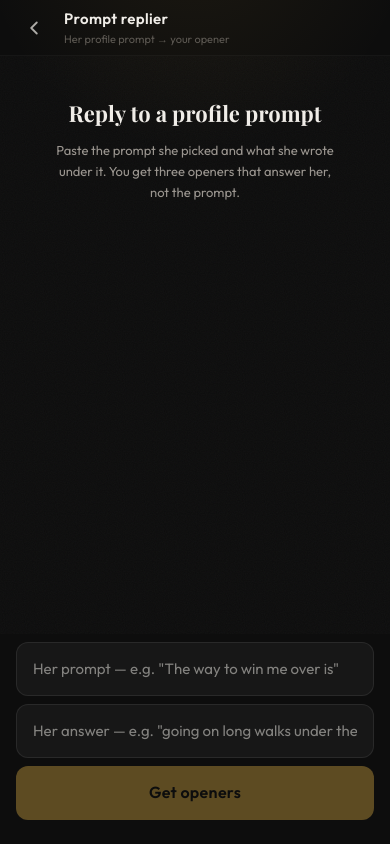
Test: PromptReplierScreen › selecting an opener only highlights it — Copy is the explicit action
Type "The way to win me over is" into the field labelled "Her prompt".
click(195, 669); type("The way to win me over is")  # box [16,642,374,696]
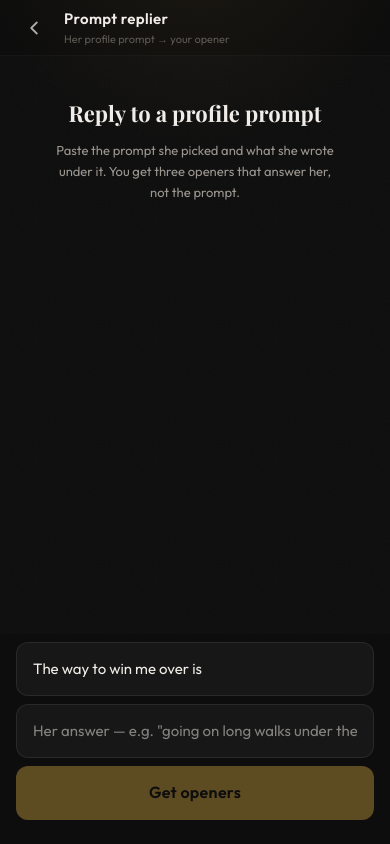
Replace the text in the field labelled "Her answer" with "going on long walks under the Bougainville trees" at point(195, 731), box [16,704,374,758]
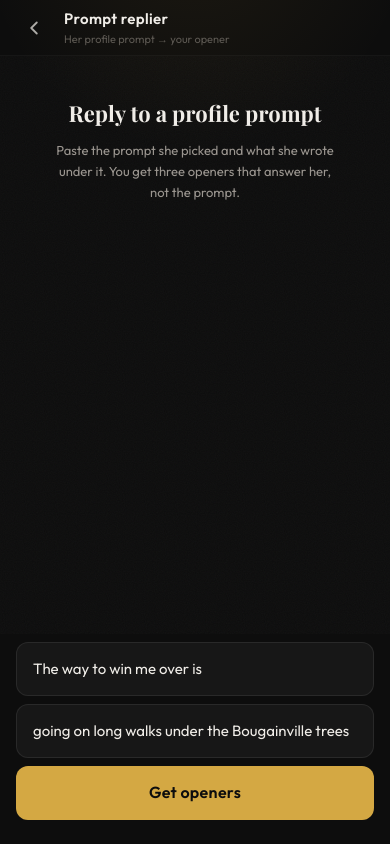
Click the button "Get openers".
click(195, 793)  # box [16,766,374,820]
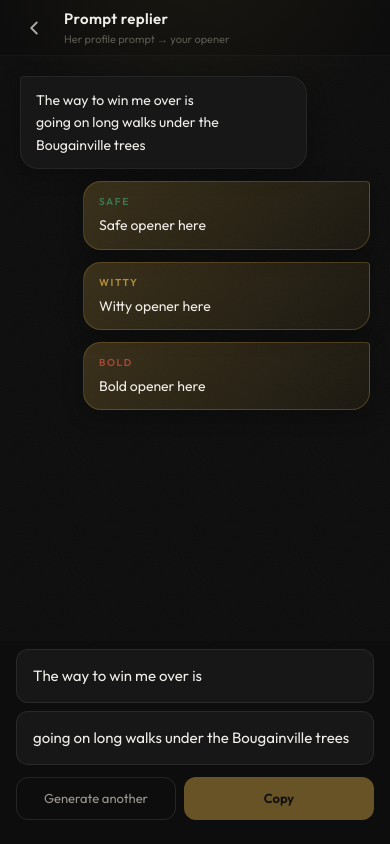
Expected: the text "Safe opener here" is shown, [99,216,206,234]
Expected: the button "Copy" is disabled, [184,777,374,820]
Click the text "Bold opener here".
click(152, 386)  # box [99,377,205,395]
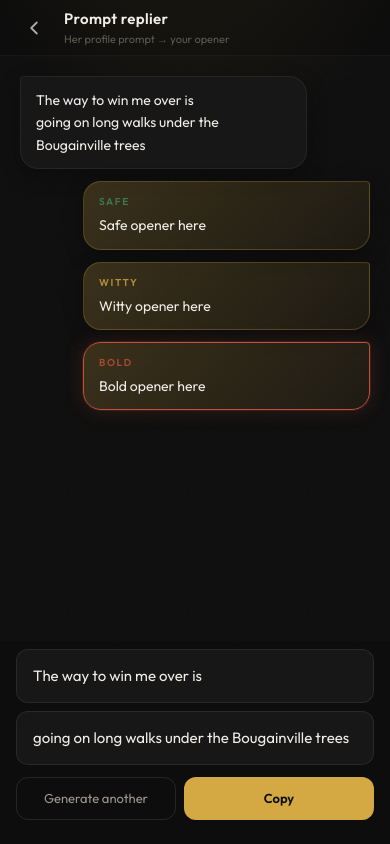
Expected: the text "Safe opener here" is shown, [99,216,206,234]
Expected: the button "Copy" is enabled, [184,777,374,820]
